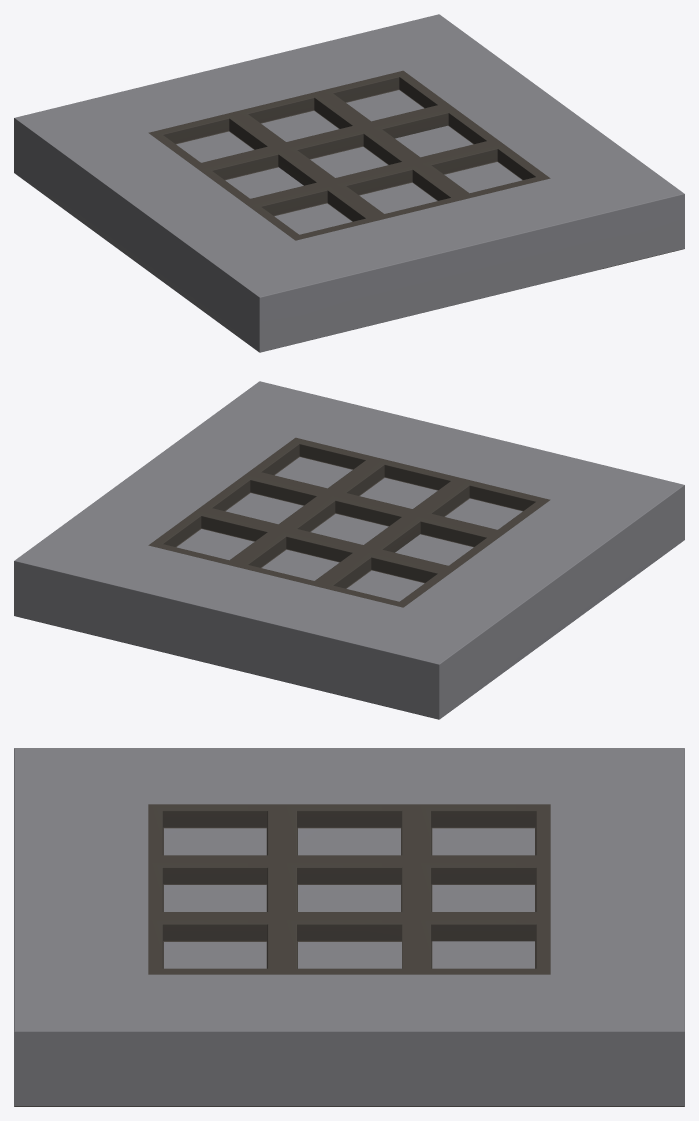
The model's file is FloorSpikeTrap_Frame.fbx.
3 renders of one model, top to bottom at view 1: azimuth 30°, elevation 25°; view 2: azimuth 150°, elevation 25°; view 3: azimuth 270°, elevation 25°, orthographic. The views are drawn at different scales.
Visible parts, largest first — view 1: SpikeTrap_Frame; view 2: SpikeTrap_Frame; view 3: SpikeTrap_Frame.
Part boxes in pixels (x1,y1,x2,y2): SpikeTrap_Frame: (14,14,684,352); SpikeTrap_Frame: (14,381,684,719); SpikeTrap_Frame: (14,748,684,1106).
Bounding box in the file's own units: 2 × 2 × 0.25.
